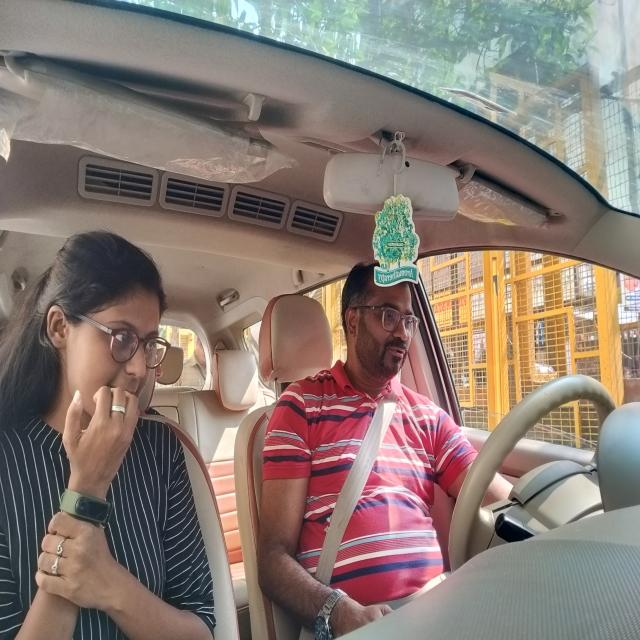person: (32, 228, 171, 447)
